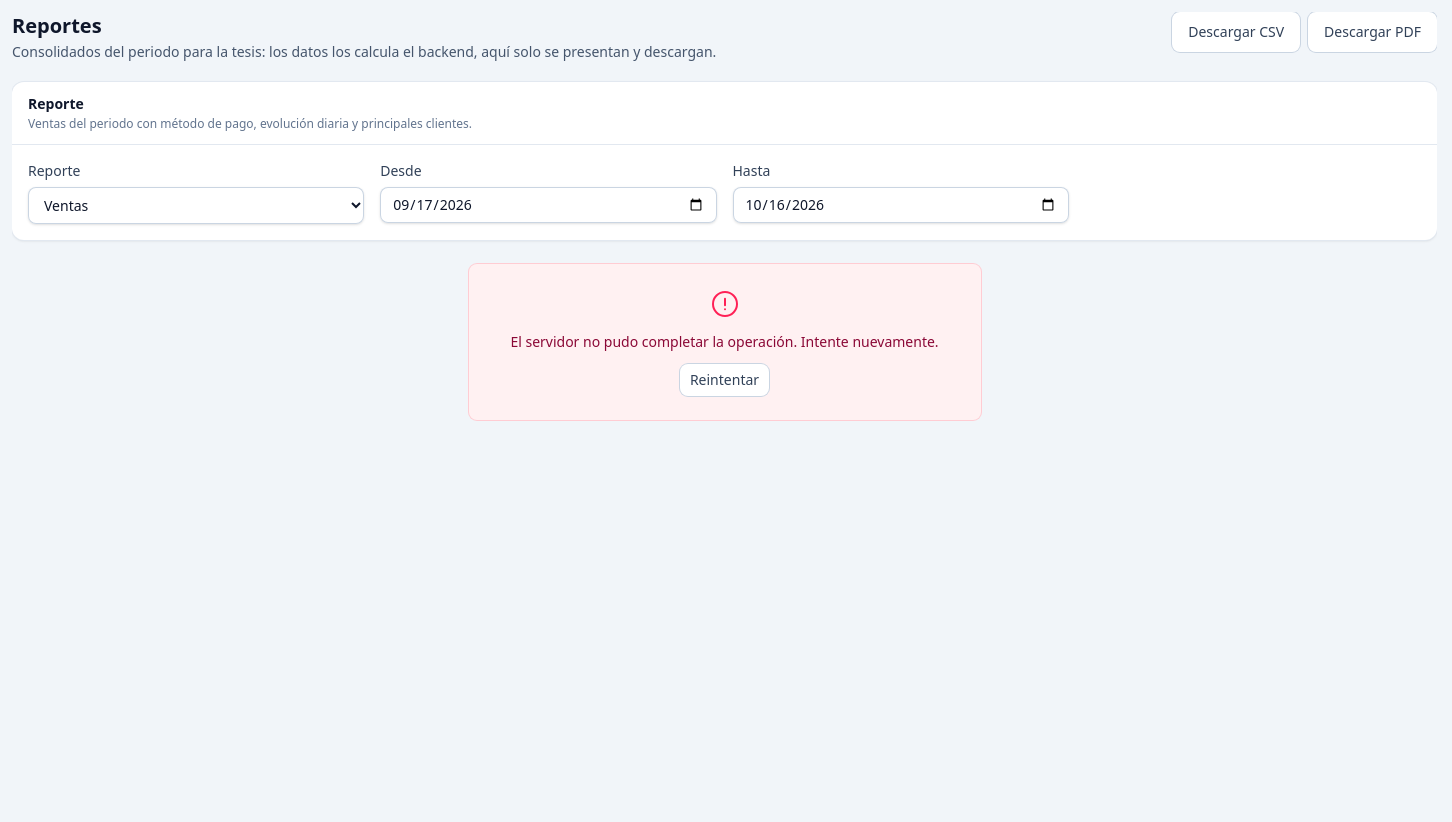
Test: pantalla de reportes › un fallo de descarga se muestra como aviso
Click the button "Descargar PDF": click(1373, 32) x1=1308 y1=12 x2=1437 y2=52
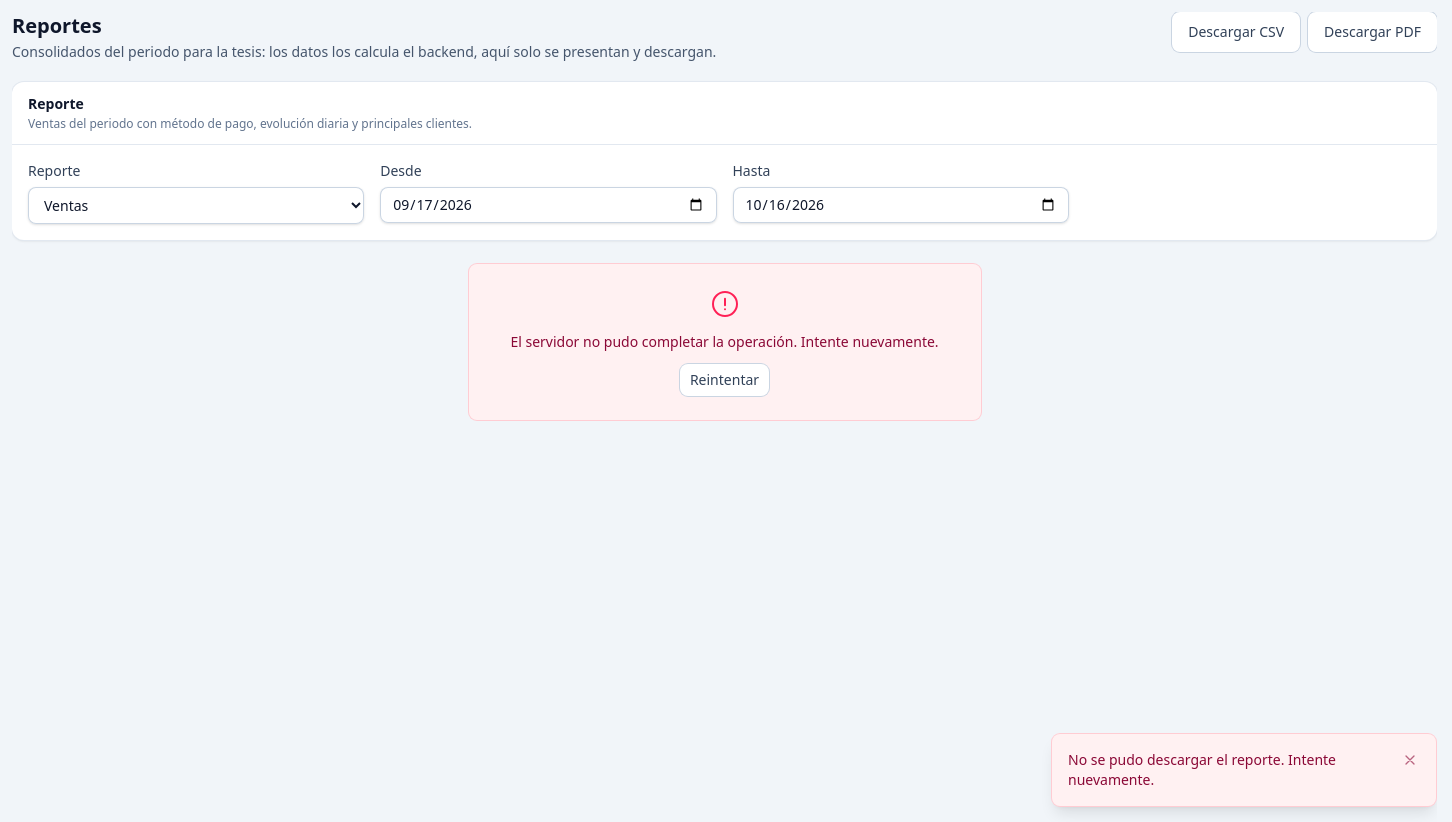
Check: the text "No se pudo descargar el reporte. Intente nuevamente." is shown, box x1=1068 y1=750 x2=1336 y2=789
